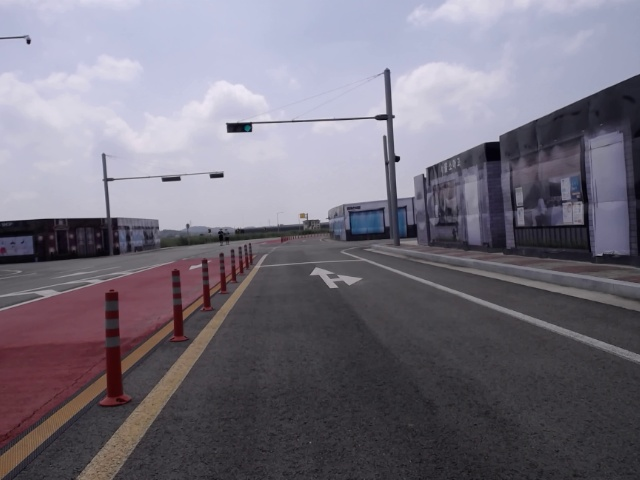green_3: (227, 122, 253, 133)
